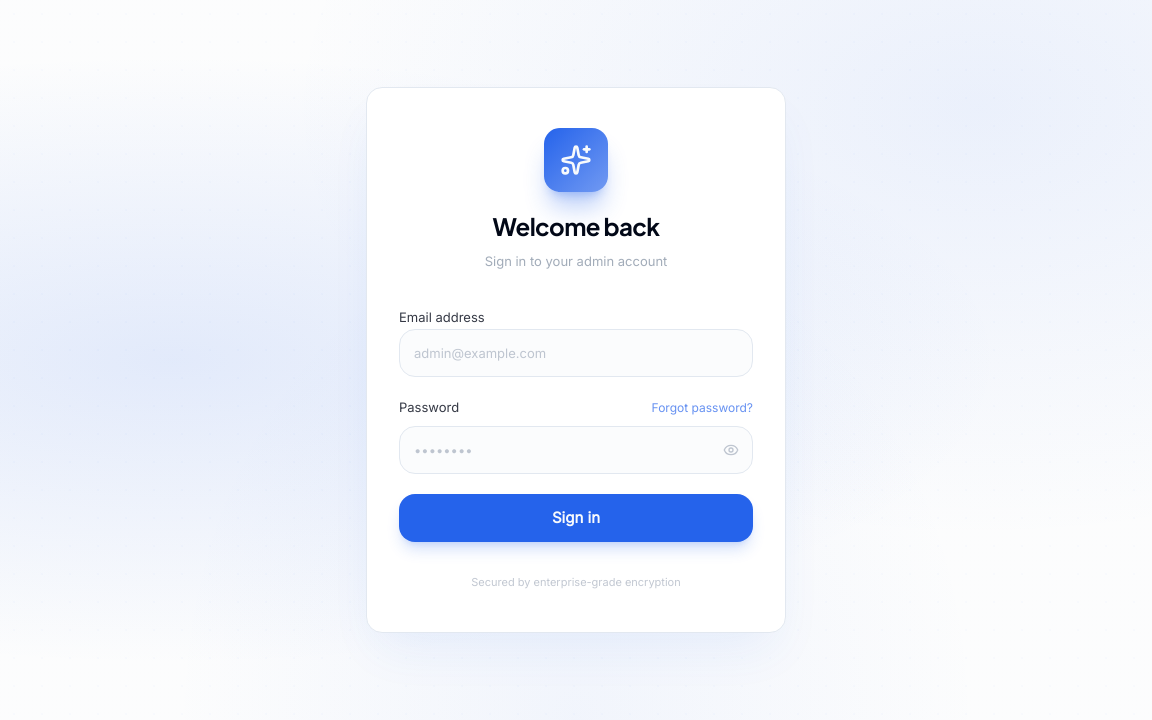
Test: LoginPage › shows password validation error
Type "test@example.com" into the field labelled "Email address" at (576,353), box [399, 329, 753, 377]
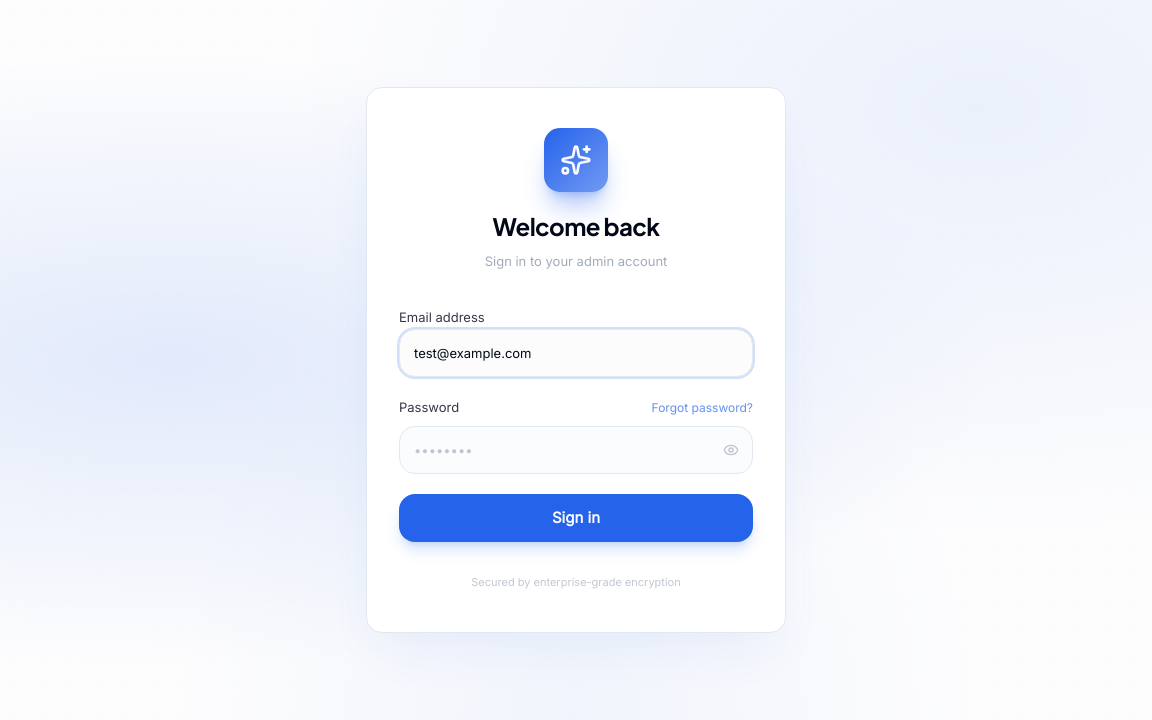
Type "123" into the password field labelled "Password" at (576,450), box [399, 426, 753, 474]
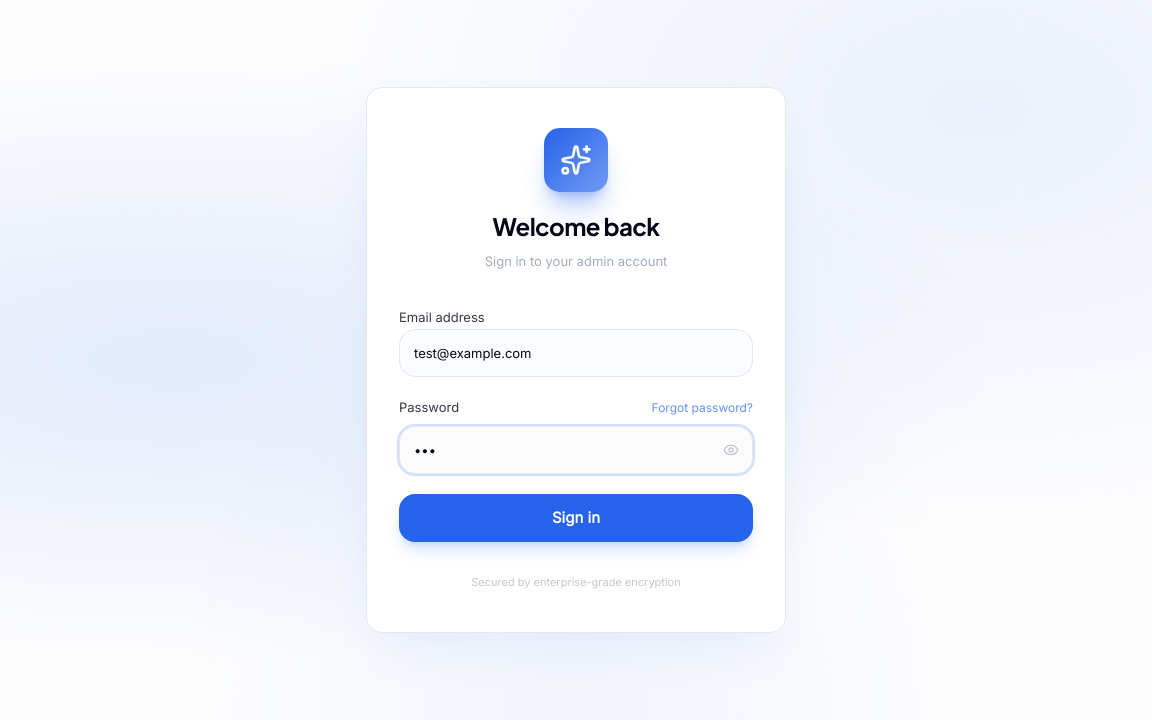
Click the button "Sign in" at (576,518), box [399, 494, 753, 542]
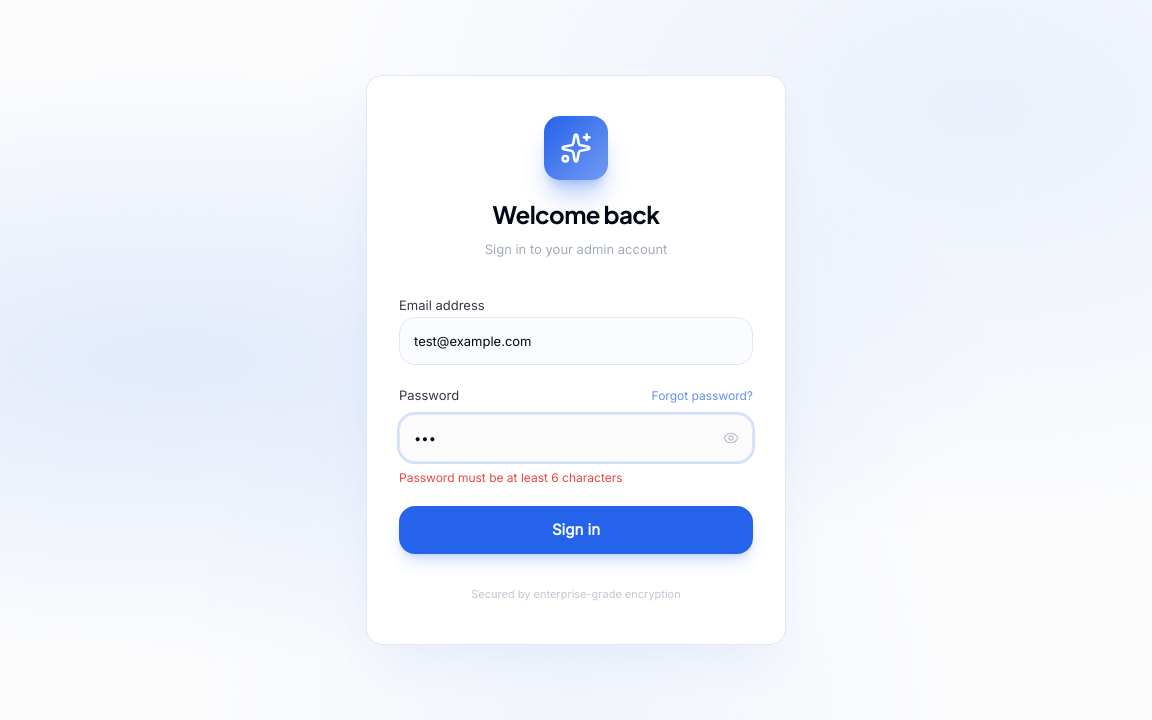
Expected: the text "Password must be at least 6 characters" is shown, [399, 470, 623, 485]
